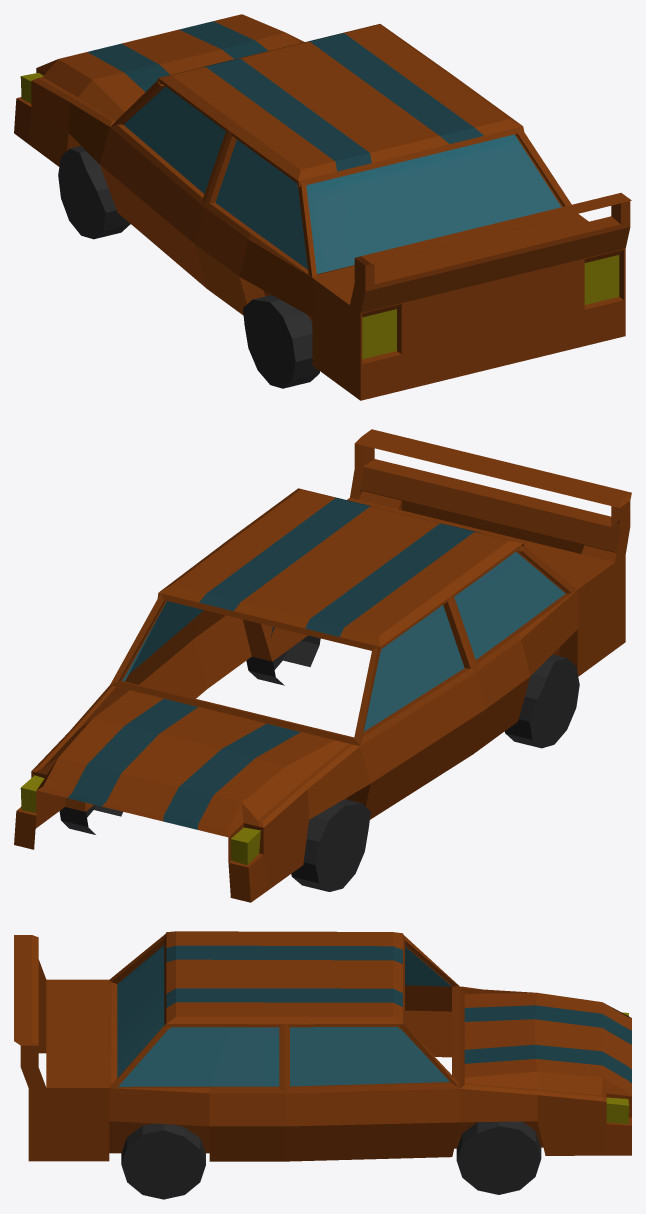
The model's file is PlayerCar.fbx.
The picture shows the model from 3 angles, top to bottom: view 1: azimuth 30°, elevation 25°; view 2: azimuth 150°, elevation 25°; view 3: azimuth 270°, elevation 25°; orthographic projection. The views are drawn at different scales.
Parts seen in each view (by area): view 1: Cube.002; view 2: Cube.002; view 3: Cube.002.
Part boxes in pixels (box(x1,y1,x2,y2)): Cube.002: box(14, 14, 631, 400); Cube.002: box(14, 429, 631, 902); Cube.002: box(14, 931, 631, 1199).
Bounding box in the file's own units: 179 × 388 × 116.
